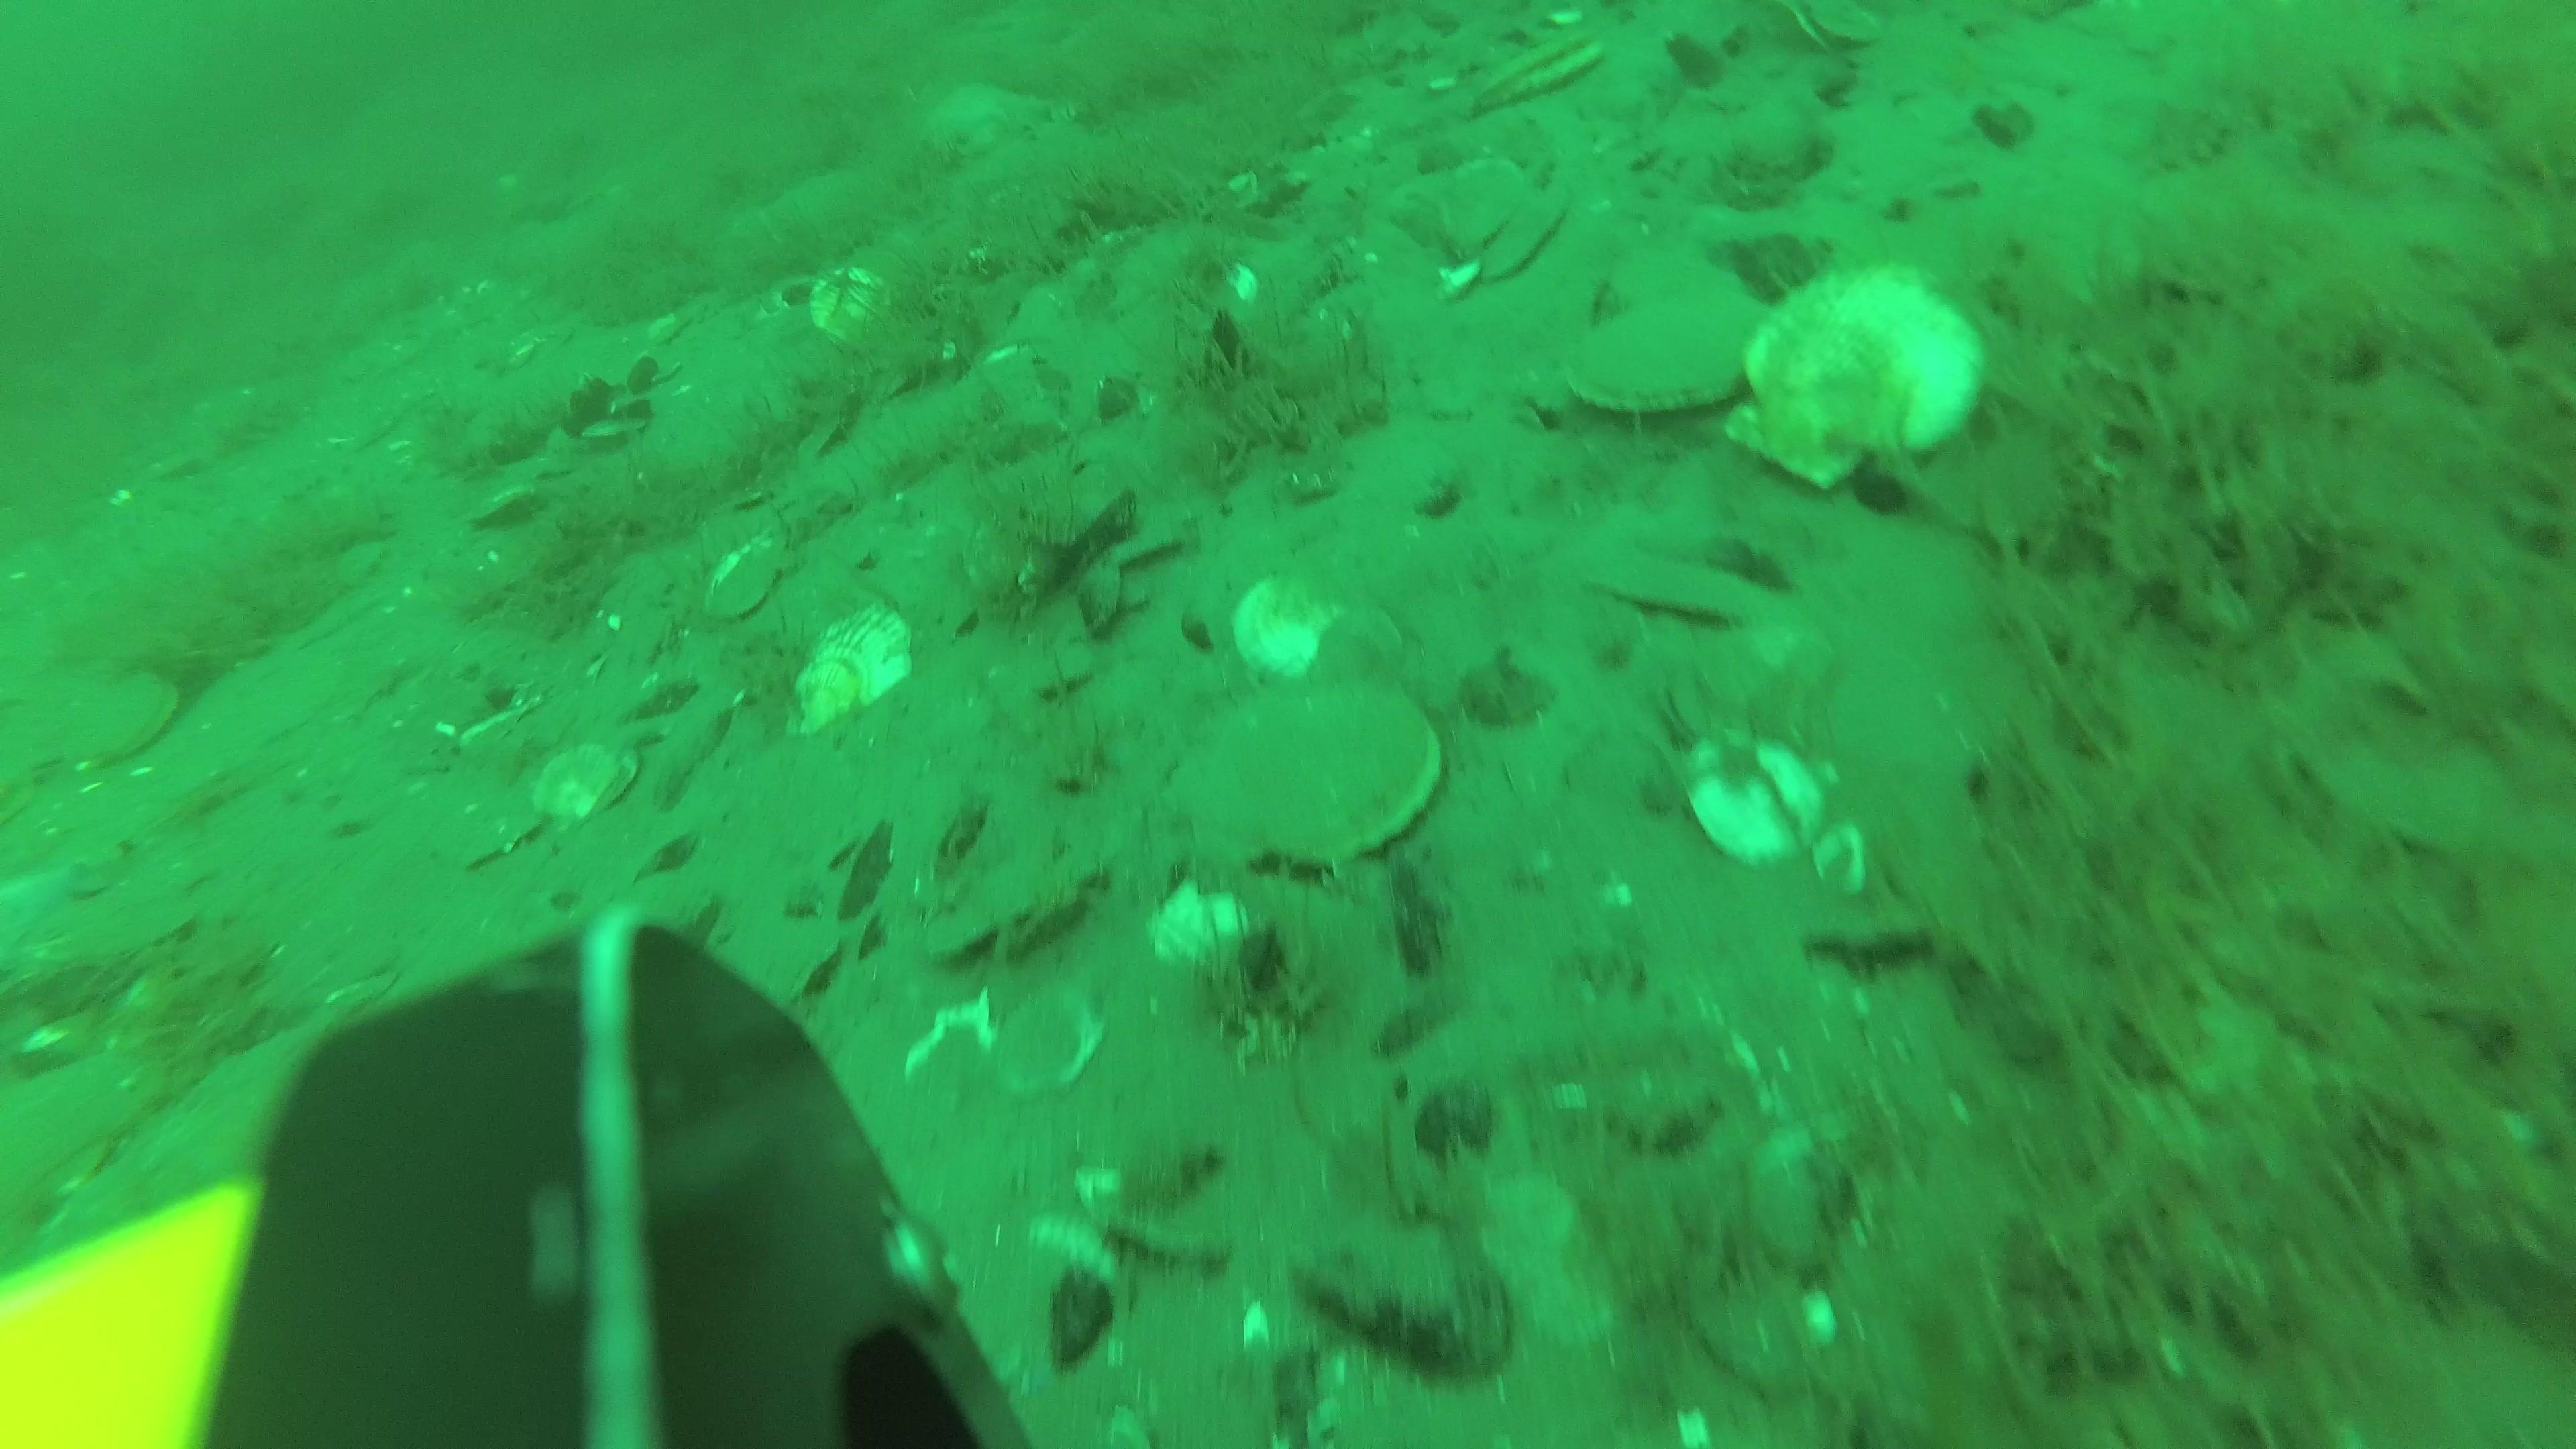scallop: (1737, 271, 1994, 488), (1180, 678, 1435, 869), (1555, 290, 1773, 409), (1677, 722, 1824, 858), (1242, 579, 1407, 694), (796, 602, 913, 732), (1477, 23, 1605, 108), (78, 671, 177, 766), (1318, 616, 1415, 706), (1444, 152, 1522, 262), (701, 525, 791, 619), (1483, 186, 1568, 283), (543, 741, 640, 824), (809, 265, 888, 349)
starfish: (0, 862, 111, 975), (927, 74, 1044, 157)
